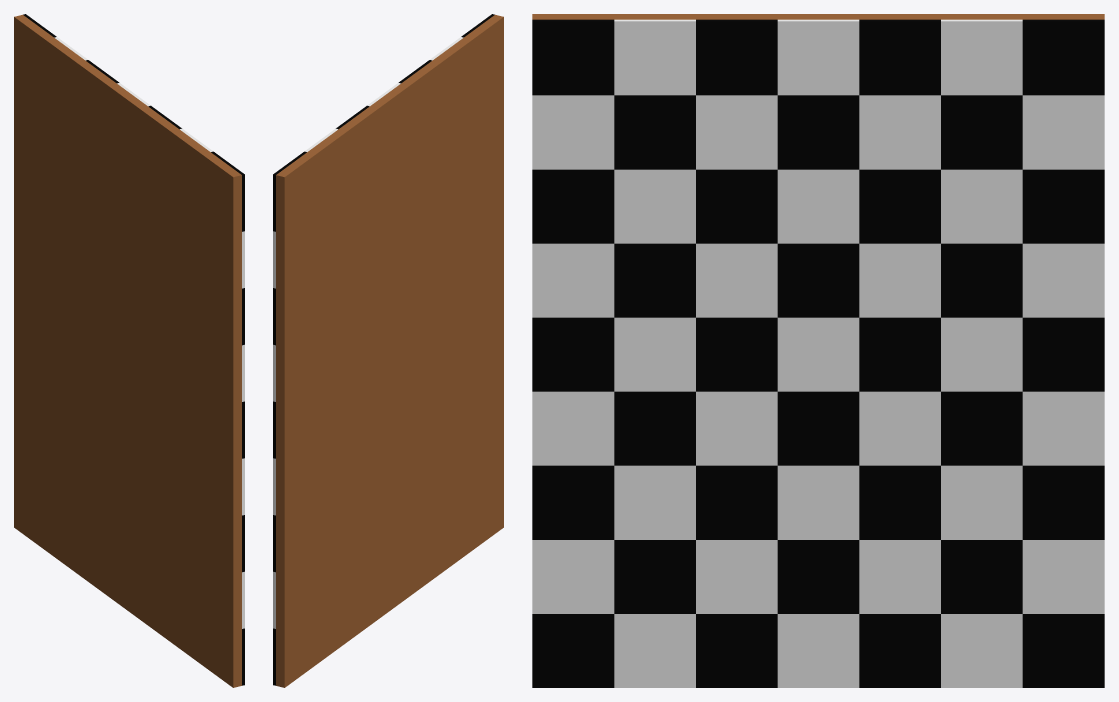
File: checkboard.dae
3 views of the same model, side by side, from view 1: azimuth 30°, elevation 25°; view 2: azimuth 150°, elevation 25°; view 3: azimuth 270°, elevation 25° (orthographic). The views are drawn at different scales.
Visible parts, largest first — view 1: mynode; view 2: mynode; view 3: mynode.
Boxes of the visible parts, x1,y1,x2,y2 form: mynode: [14, 14, 244, 687]; mynode: [273, 14, 503, 687]; mynode: [532, 14, 1104, 687].
Bounding box in the file's own units: 20 × 837 × 651.
